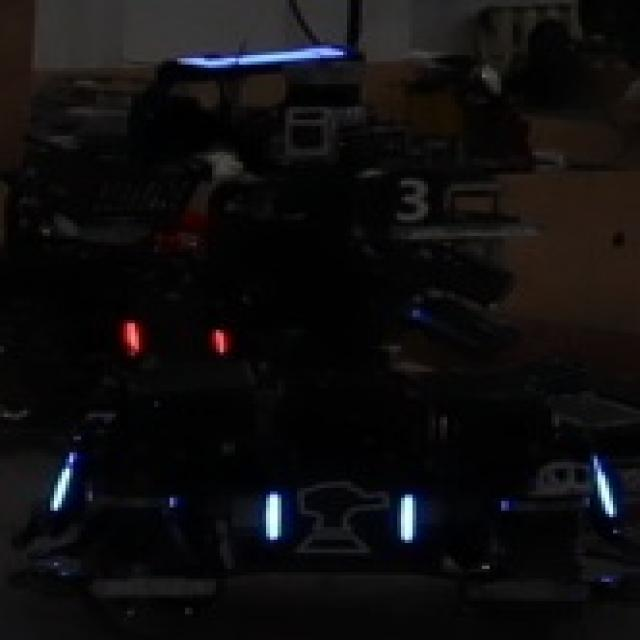Bs: (258, 478, 421, 560)
